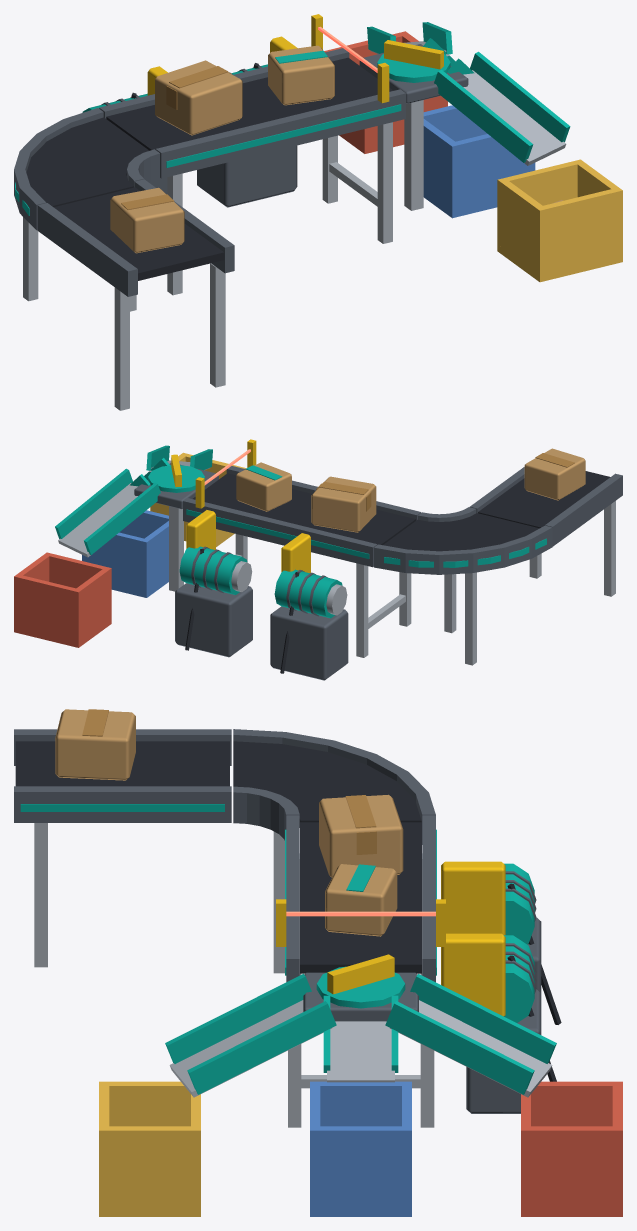
Rendered from station_transport_2.glb.
The picture shows the model from 3 angles, top to bottom: view 1: azimuth 30°, elevation 25°; view 2: azimuth 150°, elevation 25°; view 3: azimuth 270°, elevation 25°; orthographic projection. The views are drawn at different scales.
Parts seen in each view (by area): view 1: station_transport_2; view 2: station_transport_2; view 3: station_transport_2.
Boxes of the visible parts, box(x1,y1,x2,y2) form: station_transport_2: box(14, 14, 622, 410); station_transport_2: box(14, 439, 622, 680); station_transport_2: box(14, 709, 622, 1216).
Size of the model in its own units: 2.17 by 0.714 by 1.79.
